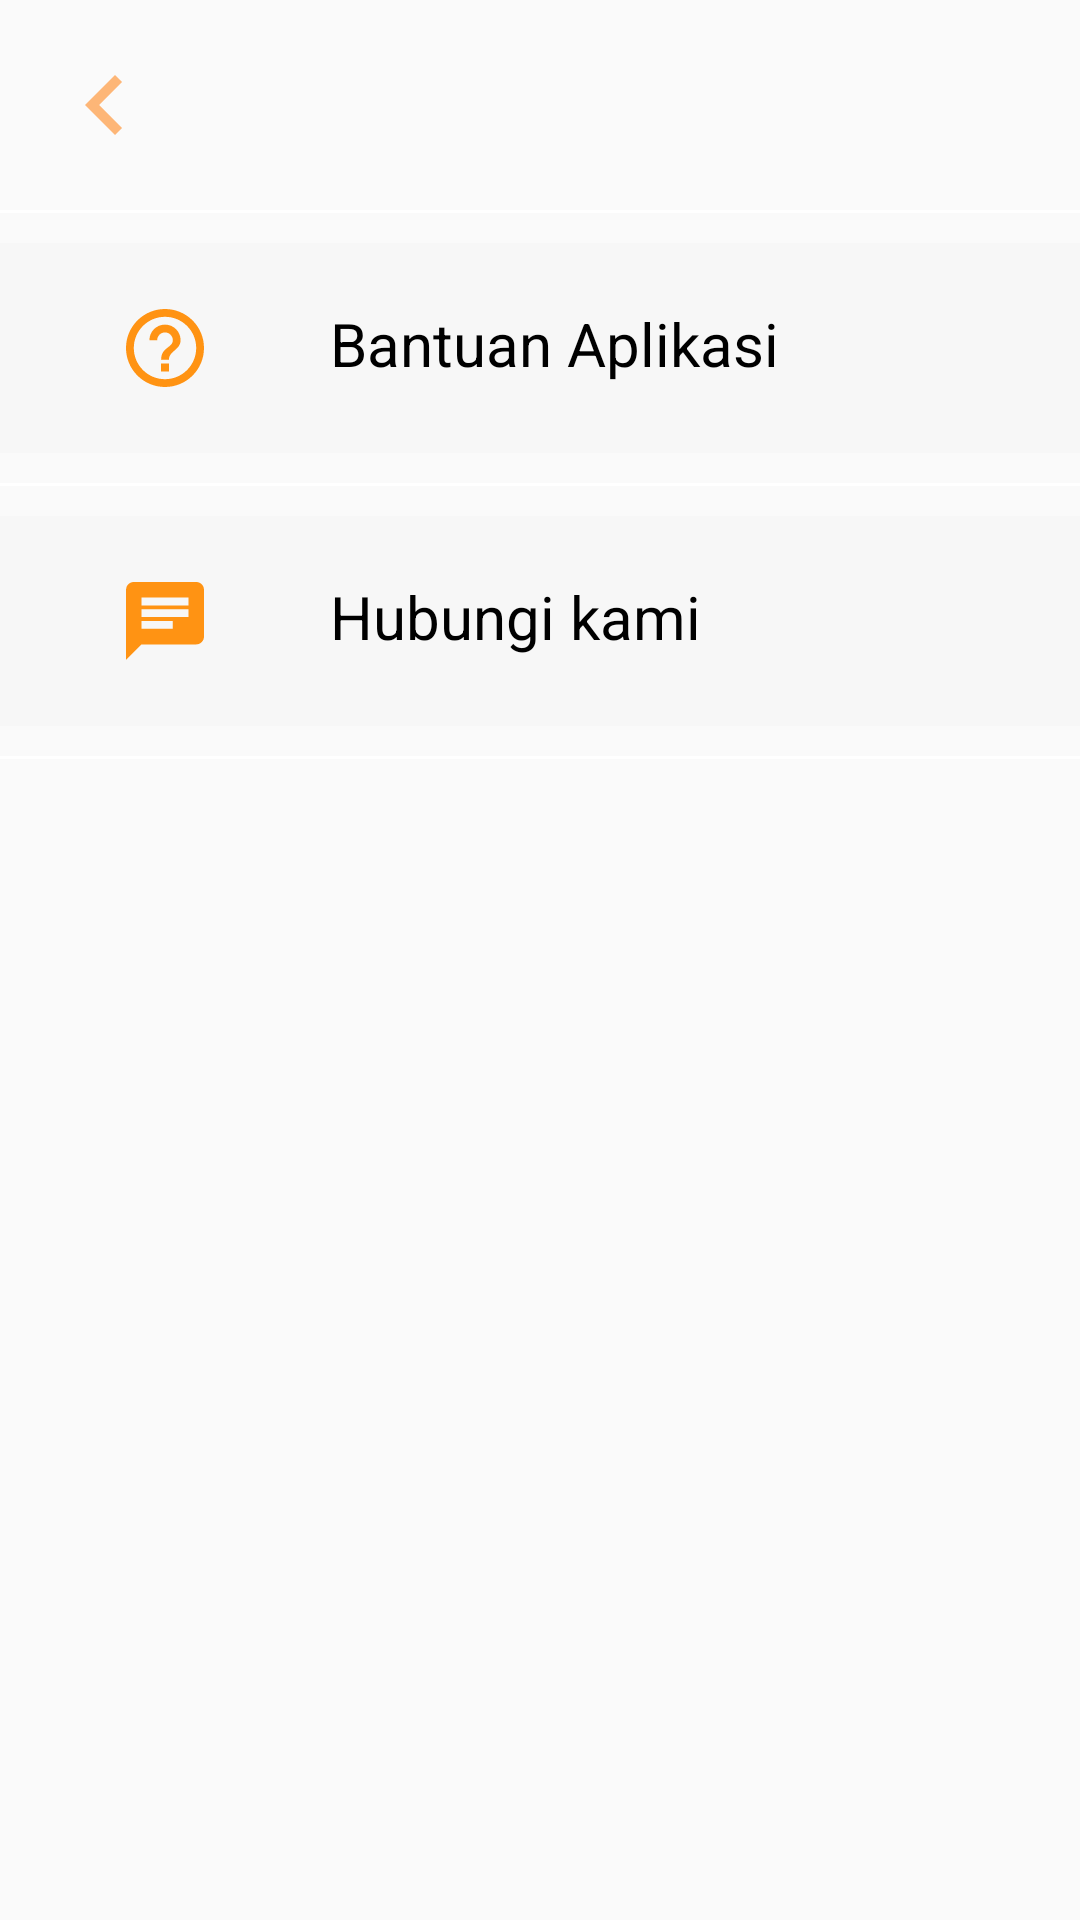

Screen size 1080×1920. Icon name, then its center in pixels as (x,y):
back: (103,105)
